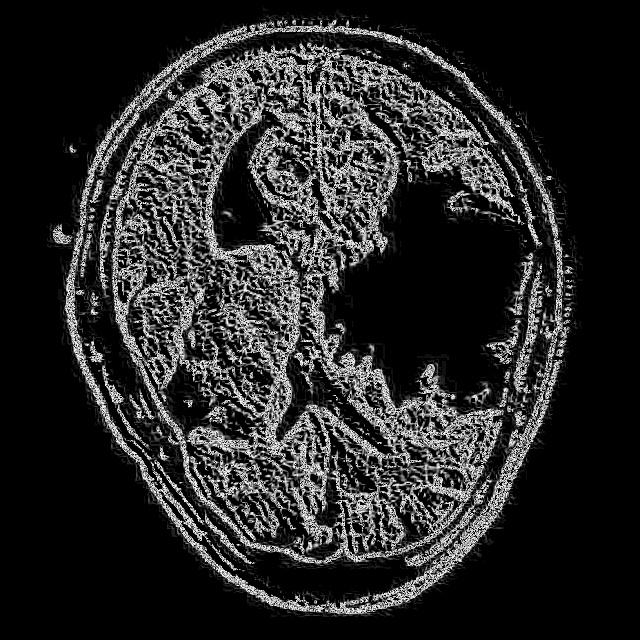Brain-Tumor: (318, 151, 544, 425)
